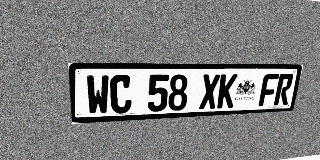5: (148, 75, 169, 112)
8: (168, 74, 189, 111)
C: (110, 75, 132, 114)
F: (258, 74, 279, 106)
K: (217, 74, 238, 108)
R: (273, 74, 294, 105)
W: (86, 75, 110, 115)
X: (199, 74, 220, 109)
